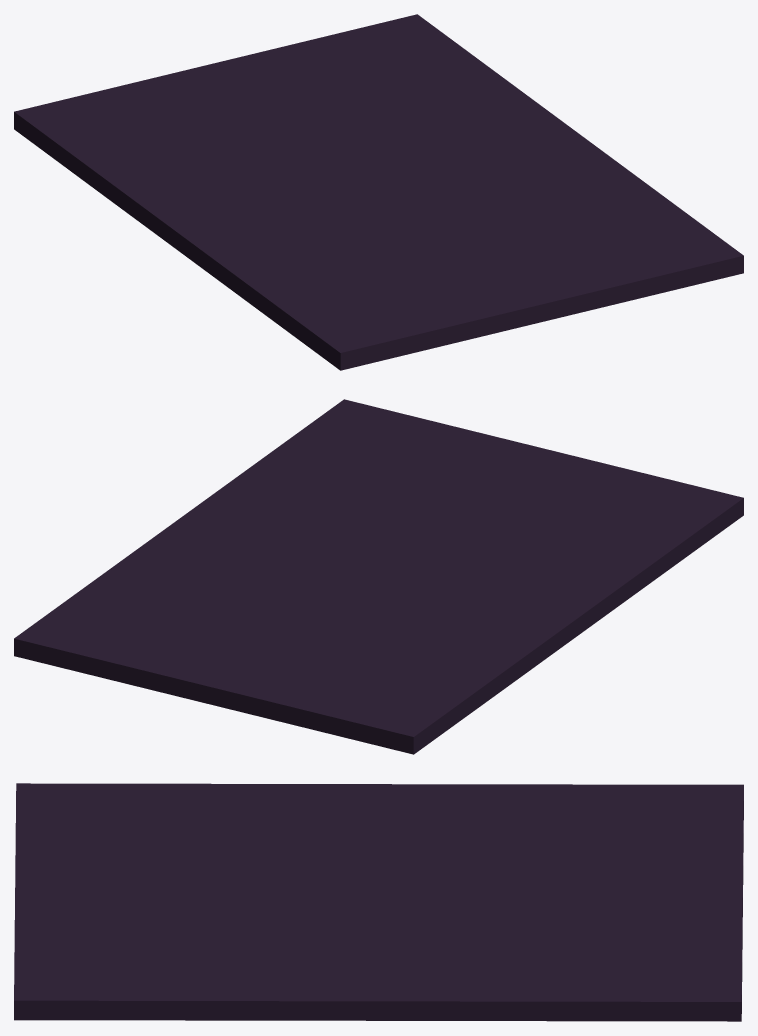
The model's file is platformcoloredfbx.fbx.
3 renders of one model, top to bottom at view 1: azimuth 30°, elevation 25°; view 2: azimuth 150°, elevation 25°; view 3: azimuth 270°, elevation 25°, orthographic. The views are drawn at different scales.
Parts seen in each view (by area): view 1: pCube197.001; view 2: pCube197.001; view 3: pCube197.001.
Part boxes in pixels (<box>): pCube197.001: <box>14,14,743,370</box>; pCube197.001: <box>14,399,743,754</box>; pCube197.001: <box>14,783,743,1021</box>.
Bounding box in the file's own units: 9962 × 415 × 14063.
